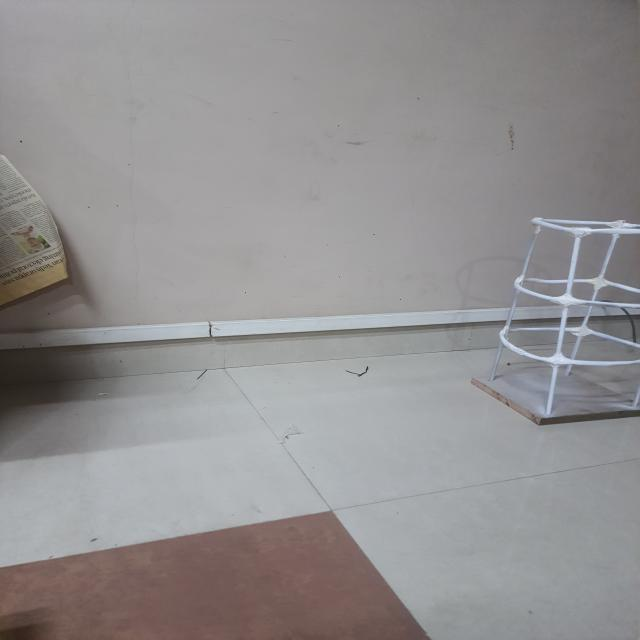silo: (491, 213, 640, 418)
